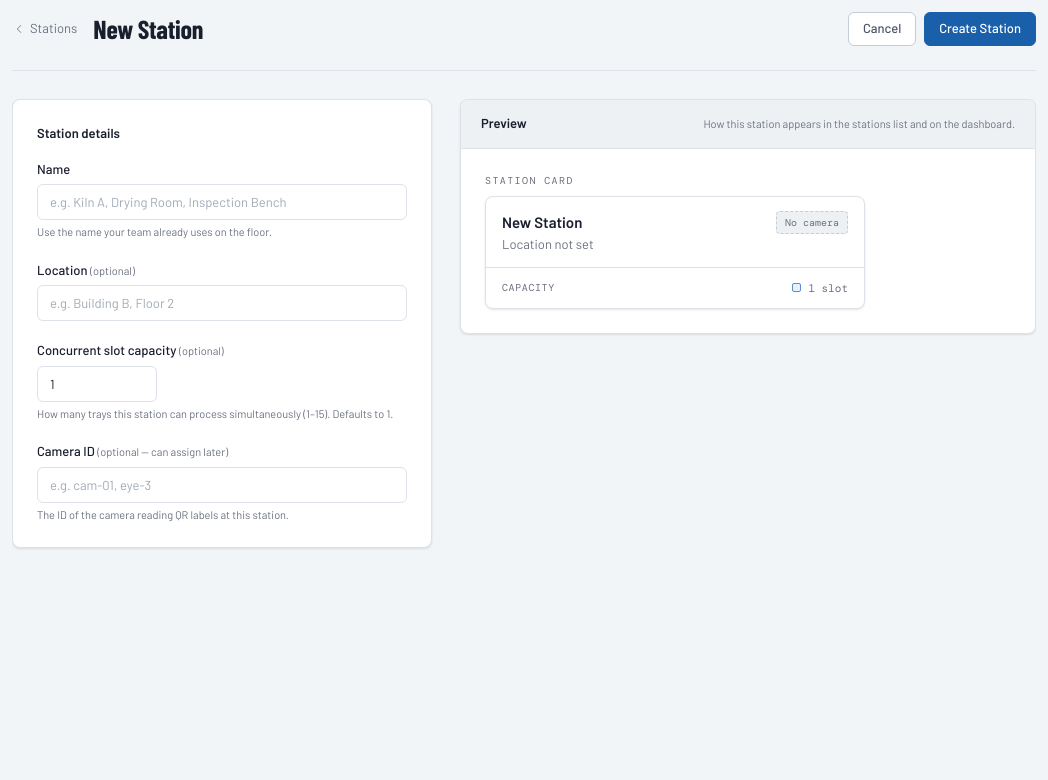
it: NewStationView › should disable submit while save is in progress
The width and height of the screenshot is (1048, 780).
Step 1. Type "Polishing" into the field with placeholder "e.g. Kiln A, Drying Room, Inspection Bench" → [222, 202], box [37,184,407,220]
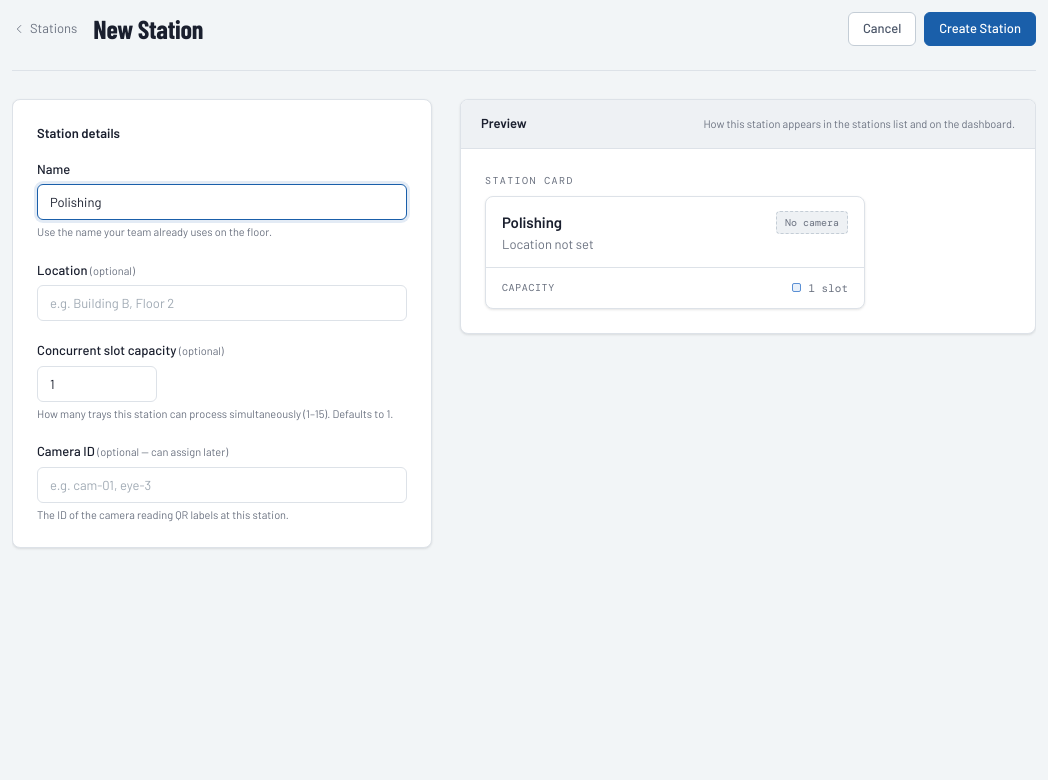
Step 2. Click the button "Create Station" → [980, 29], box [924,12,1036,46]
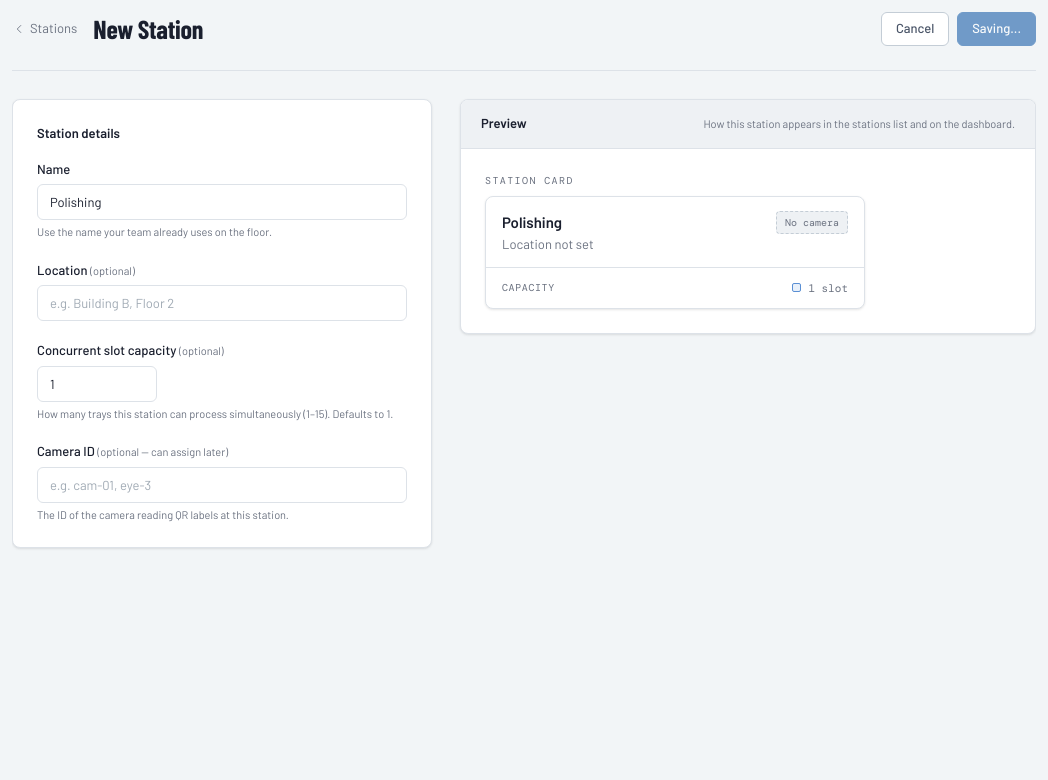
Result: the button "Saving..." is disabled at [957,12,1036,46]
